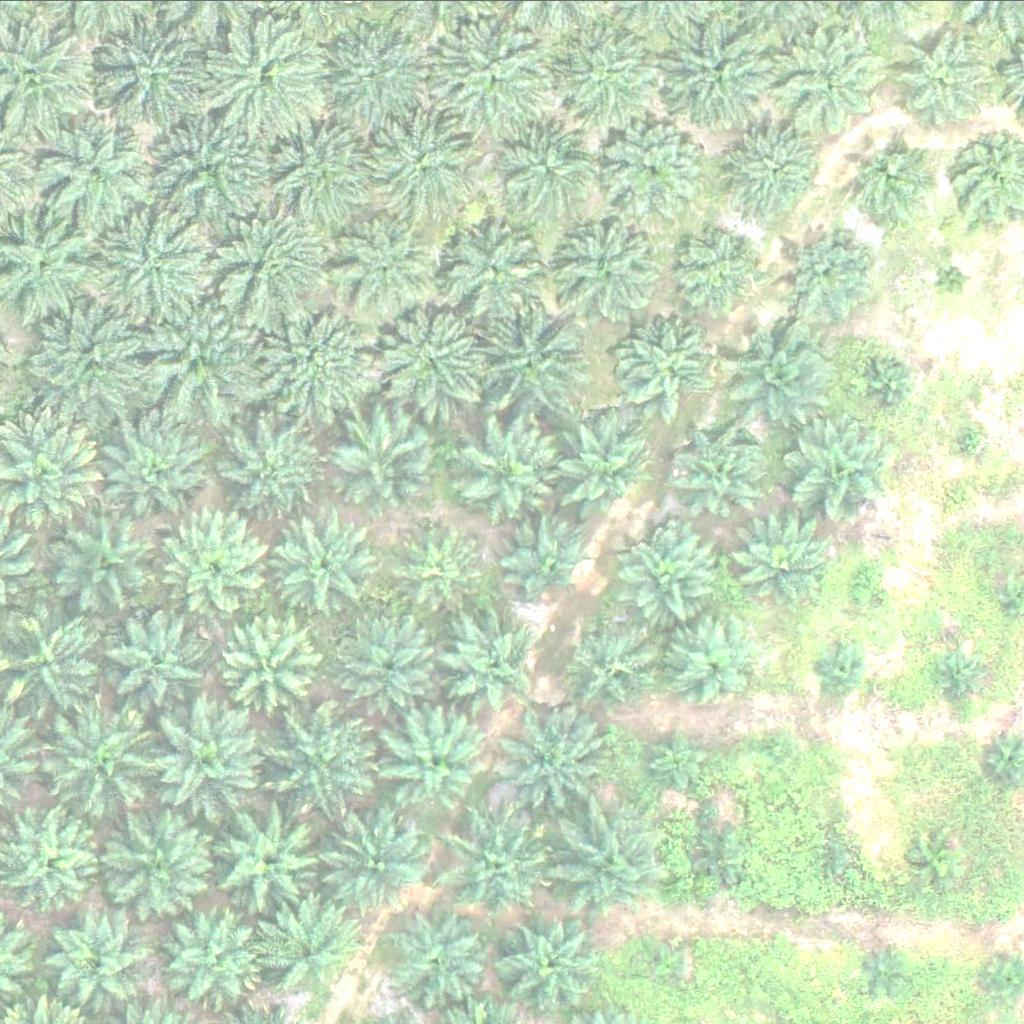Kelapa_Sawit: (149, 694, 275, 819), (90, 409, 216, 534), (31, 292, 157, 417), (142, 292, 268, 417), (102, 8, 228, 133), (251, 295, 377, 420), (216, 204, 342, 329), (655, 11, 781, 136), (548, 14, 674, 139), (426, 14, 552, 139), (206, 12, 332, 137), (94, 197, 219, 322), (368, 300, 493, 425), (330, 23, 444, 136), (104, 805, 217, 918), (500, 703, 613, 816), (270, 705, 383, 818), (37, 112, 150, 225), (479, 303, 592, 416), (728, 312, 841, 425), (46, 704, 160, 816), (164, 507, 278, 619), (444, 805, 557, 917), (552, 809, 665, 921), (778, 24, 891, 136), (54, 908, 155, 1008), (552, 418, 653, 518), (621, 523, 722, 623), (345, 612, 446, 712), (439, 612, 540, 712), (558, 619, 659, 719), (385, 711, 486, 811), (221, 807, 322, 907), (318, 814, 419, 914), (501, 913, 602, 1013), (389, 906, 490, 1006), (254, 897, 355, 997), (166, 910, 267, 1010), (619, 317, 720, 417), (567, 220, 668, 320), (446, 222, 547, 322), (334, 217, 435, 317), (376, 109, 477, 209), (605, 116, 706, 216), (730, 120, 831, 220), (884, 34, 985, 134), (839, 131, 940, 231), (793, 418, 894, 518), (102, 605, 202, 705), (56, 515, 156, 615), (228, 418, 328, 518), (336, 410, 436, 510), (462, 422, 562, 522), (278, 511, 378, 611), (223, 614, 323, 714), (269, 128, 369, 228), (733, 515, 833, 615), (156, 119, 256, 218), (506, 515, 594, 603), (398, 522, 486, 610), (676, 428, 764, 516), (510, 125, 598, 213), (673, 618, 762, 705), (784, 229, 873, 316), (677, 230, 765, 317), (641, 727, 704, 789), (910, 835, 961, 885), (861, 360, 912, 410), (856, 942, 907, 992), (640, 939, 690, 989), (699, 828, 749, 878), (935, 654, 985, 704), (812, 641, 862, 691), (847, 563, 885, 601), (954, 420, 992, 458), (935, 258, 973, 296), (814, 835, 852, 872), (759, 730, 797, 767)
